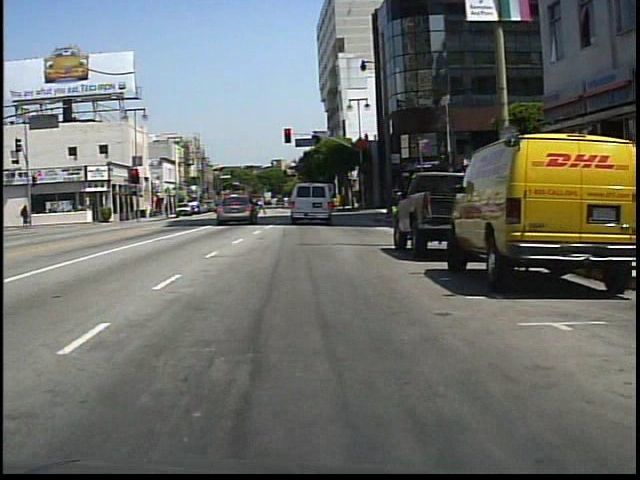person: (287, 191, 304, 222), (258, 194, 270, 219), (20, 202, 31, 228)
